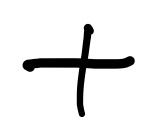plus: (21, 24, 135, 119)
